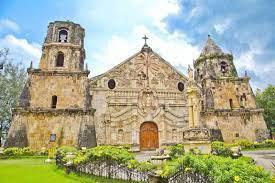miagao_church_miagao_iloilo: (6, 15, 275, 153)
